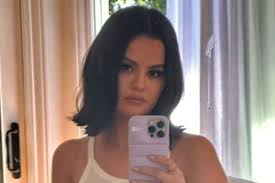Human_Female: (81, 13, 178, 130)
